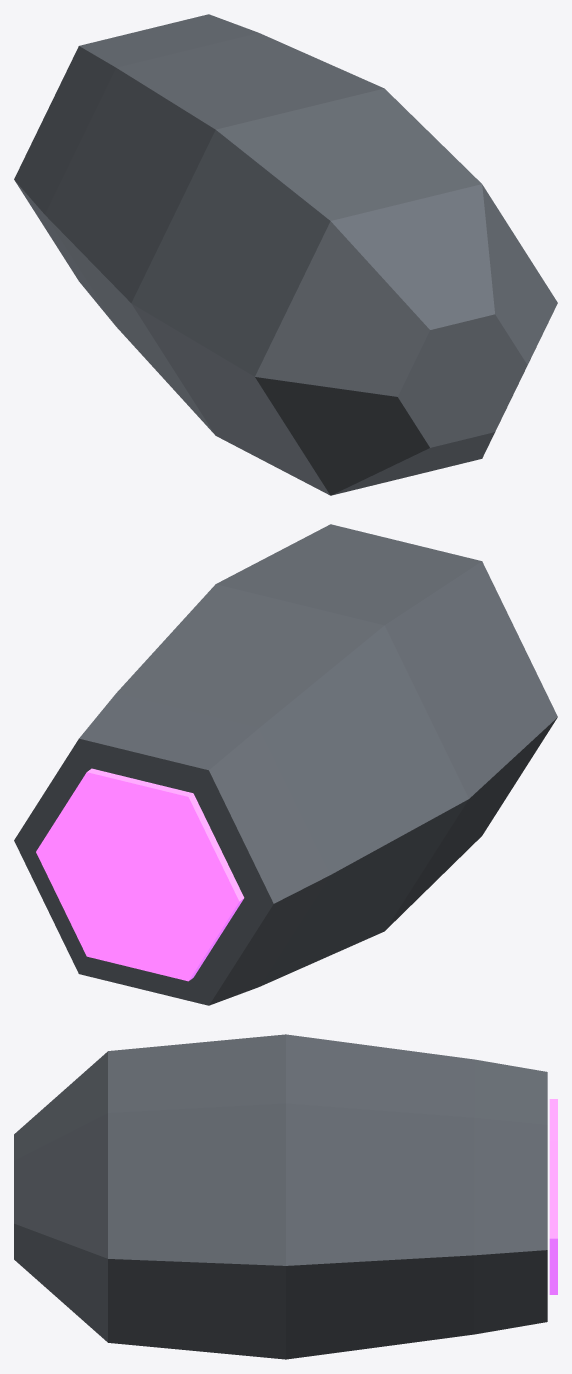
Rendered from SM_Prop_AfterburnerTurbine_LQ.glb.
The picture shows the model from 3 angles, top to bottom: view 1: azimuth 30°, elevation 25°; view 2: azimuth 150°, elevation 25°; view 3: azimuth 270°, elevation 25°; orthographic projection. The views are drawn at different scales.
Visible parts, largest first — view 1: SM_Prop_AfterburnerTurbine_LQ; view 2: SM_Prop_AfterburnerTurbine_LQ; view 3: SM_Prop_AfterburnerTurbine_LQ.
Part boxes in pixels (box(x1,y1,x2,y2)): SM_Prop_AfterburnerTurbine_LQ: box(14, 14, 557, 495); SM_Prop_AfterburnerTurbine_LQ: box(14, 524, 557, 1005); SM_Prop_AfterburnerTurbine_LQ: box(14, 1034, 557, 1359).
Bounding box in the file's own units: 1.56 × 1.35 × 2.6.
1 material, 1 textured.
